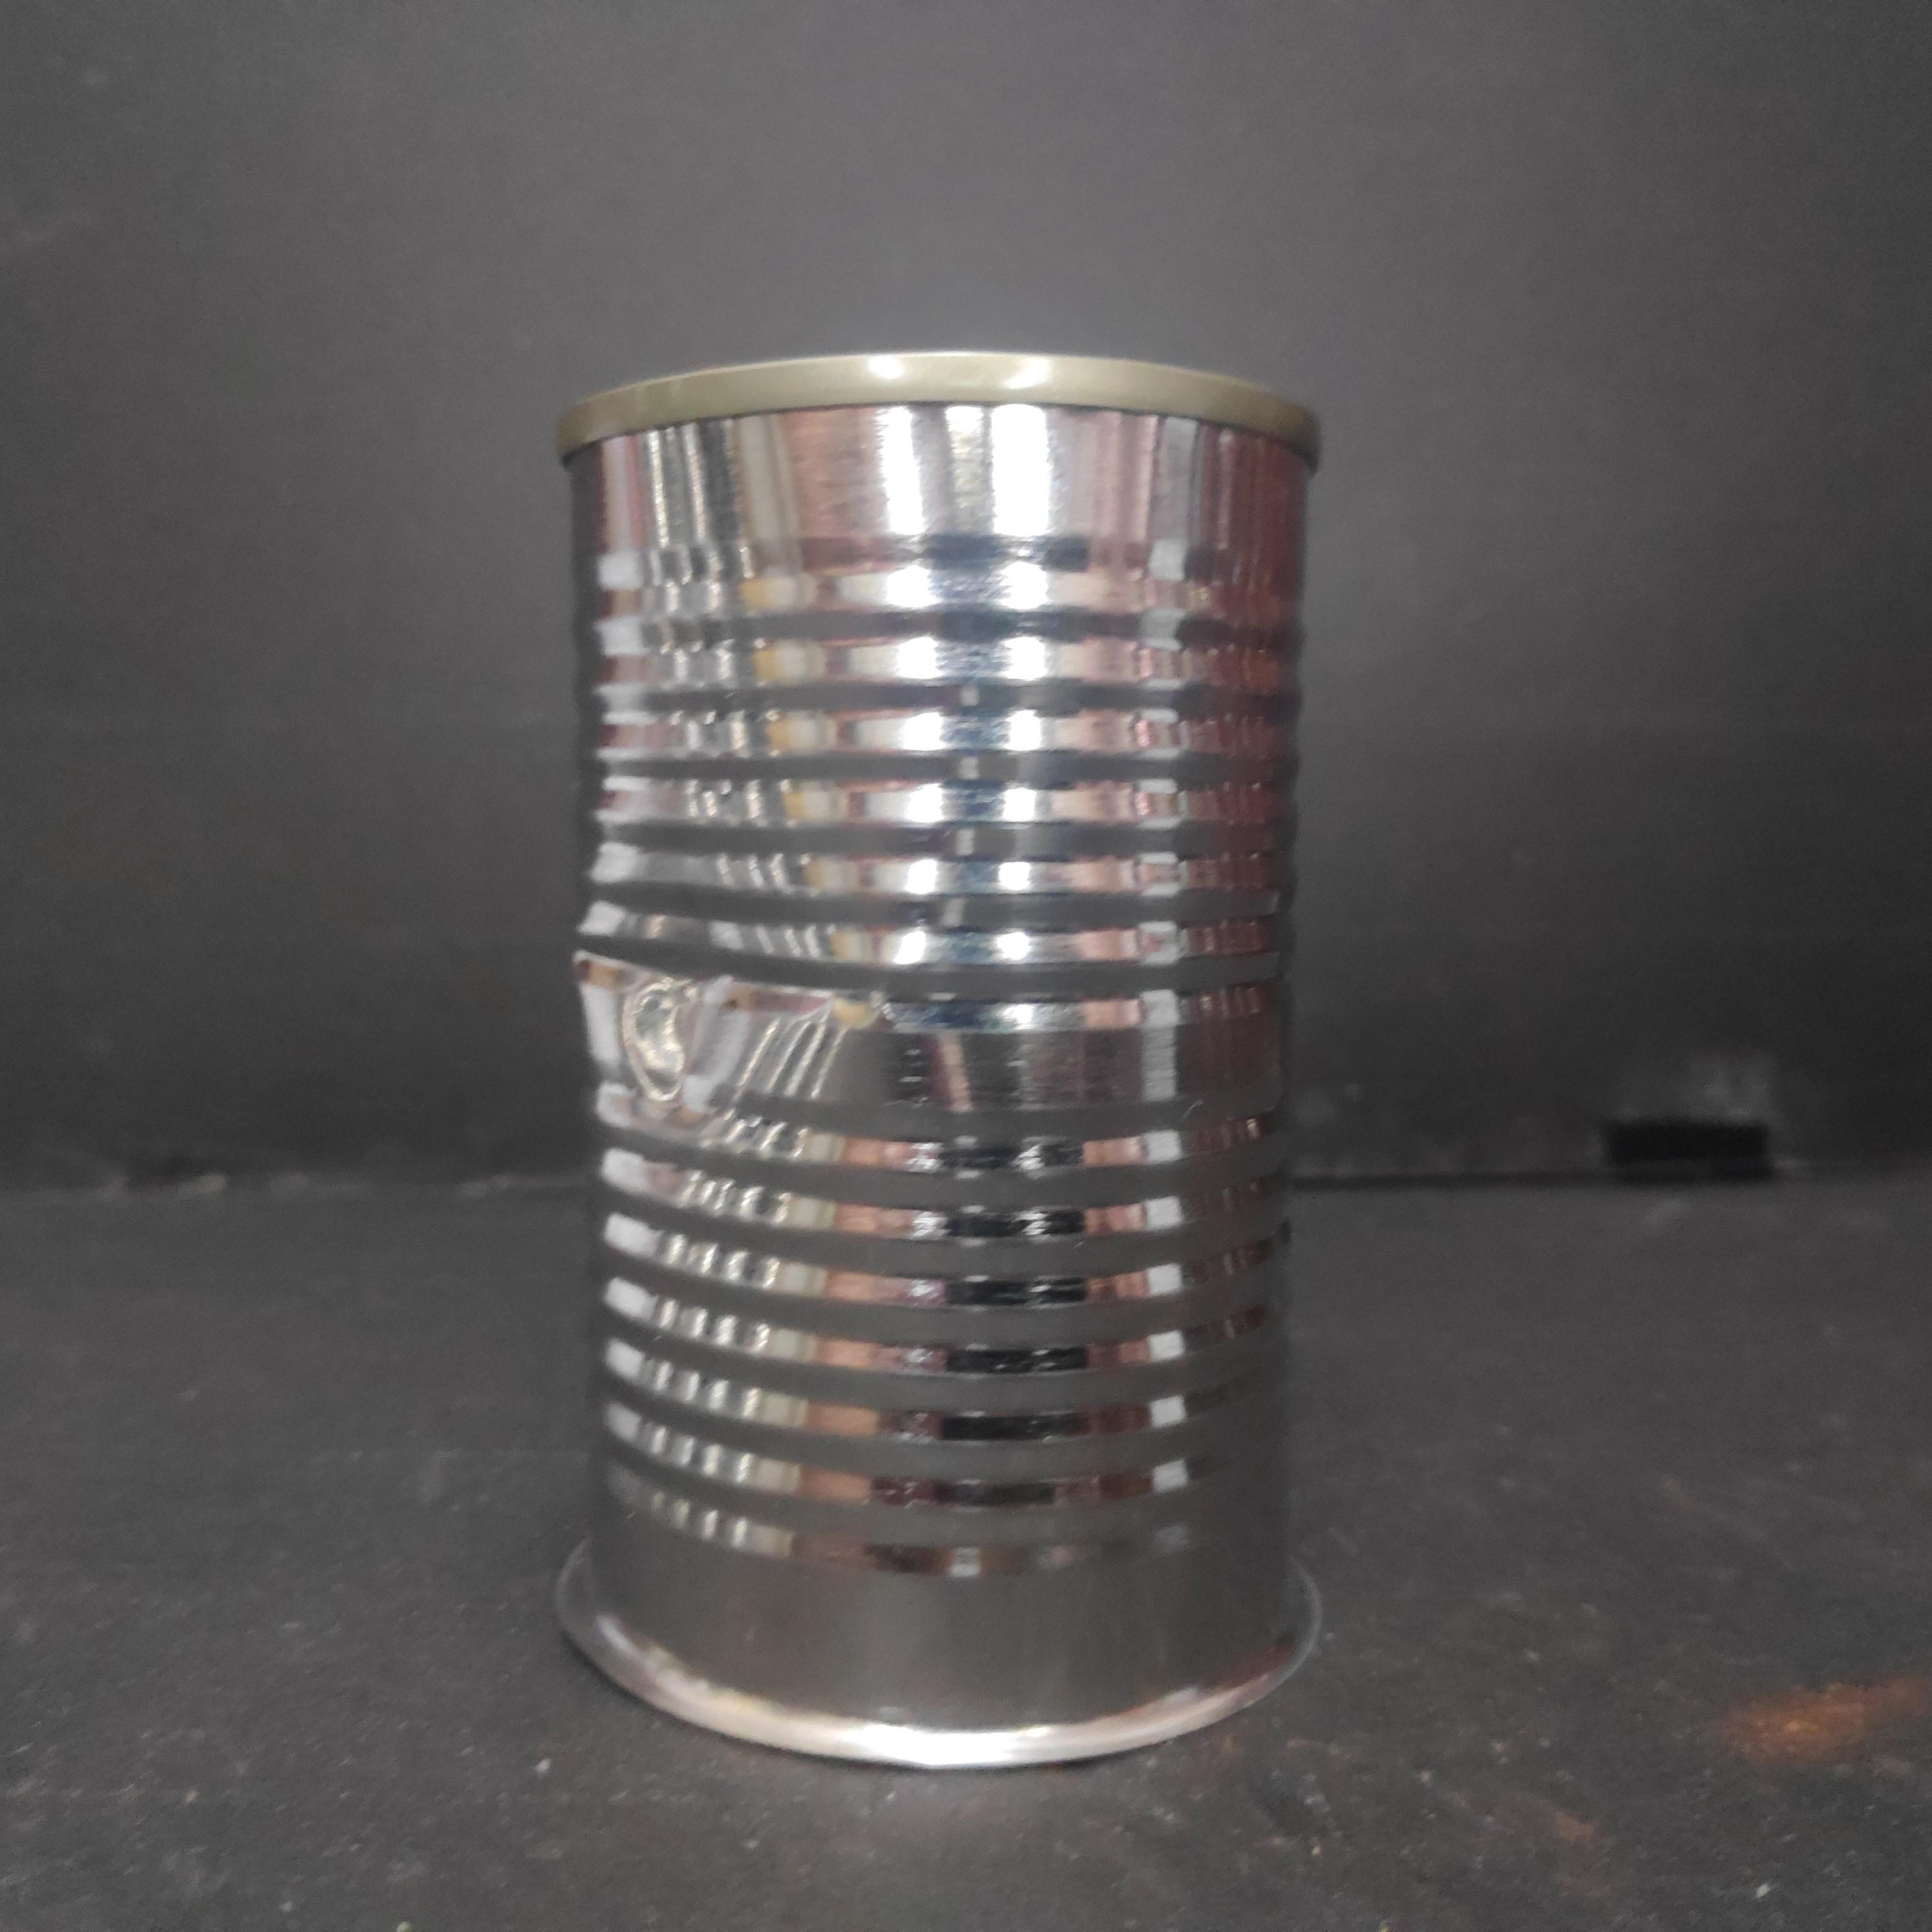Minor Defect: (544, 336, 1333, 1782)
